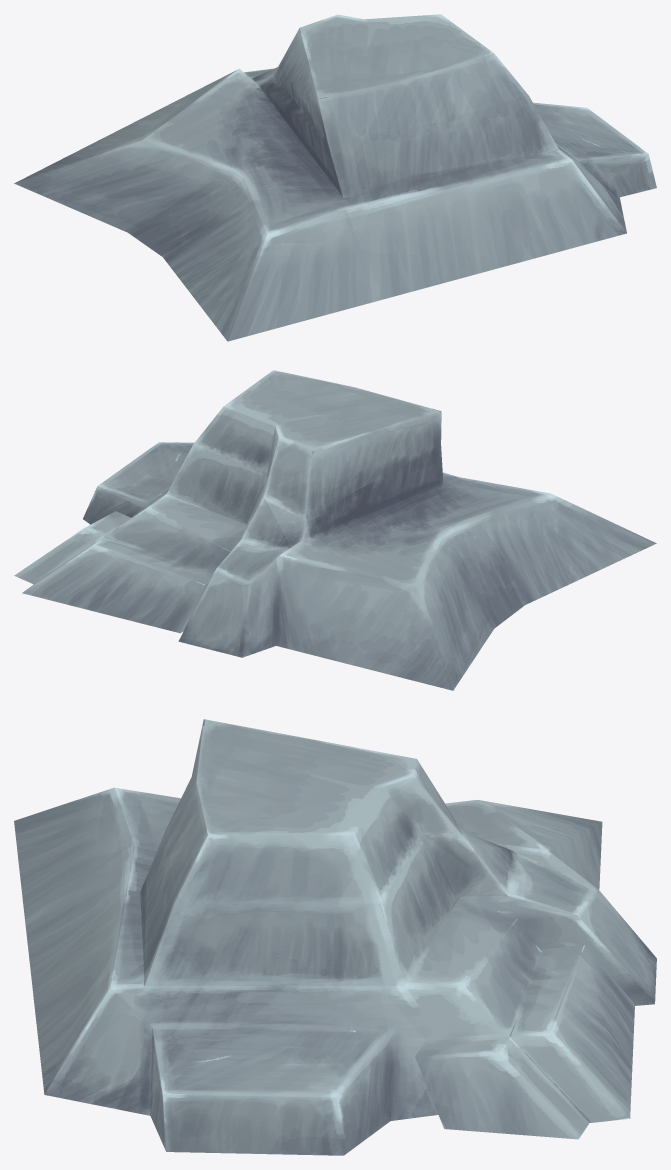
Rendered from rock.glb.
3 views of the same model, one above another, from view 1: azimuth 30°, elevation 25°; view 2: azimuth 150°, elevation 25°; view 3: azimuth 270°, elevation 25° (orthographic). The views are drawn at different scales.
Visible parts, largest first — view 1: Cube; view 2: Cube; view 3: Cube.
Part boxes in pixels (x1=…): Cube: x1=14, y1=14, x2=656, y2=341; Cube: x1=14, y1=370, x2=656, y2=690; Cube: x1=14, y1=719, x2=656, y2=1155.
Size of the model in its own units: 3.57 by 1.13 by 2.96.
1 material, 1 textured.
